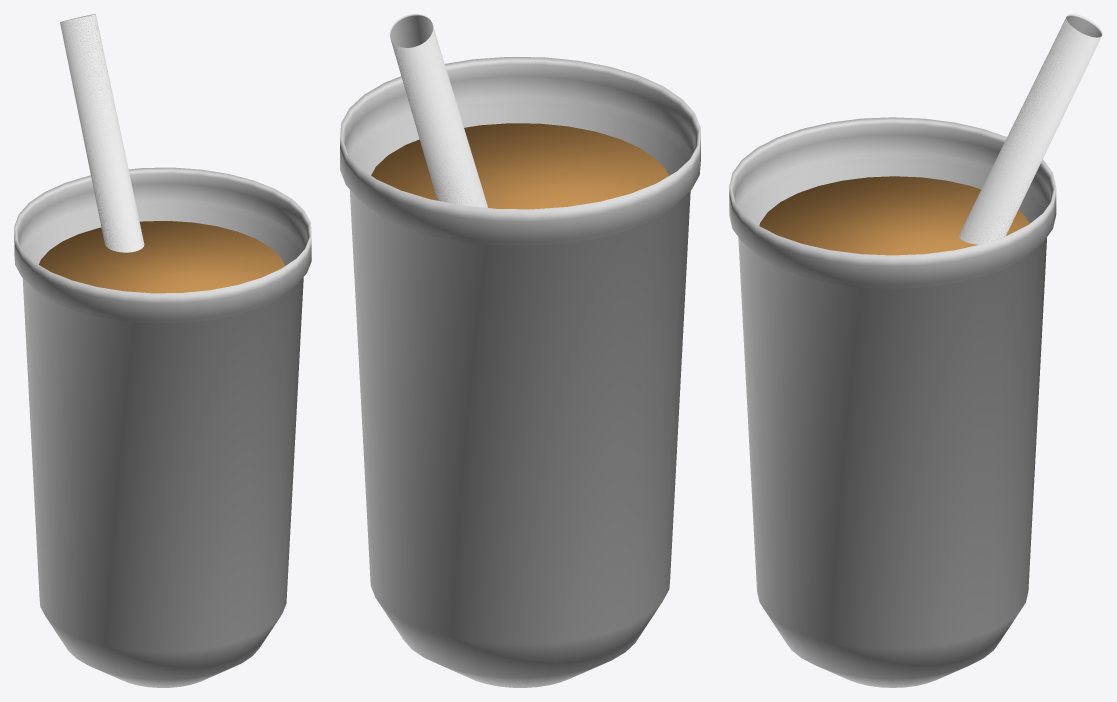
Rendered from Bubble_Glass 1.fbx.
3 renders of one model, left to right at view 1: azimuth 30°, elevation 25°; view 2: azimuth 150°, elevation 25°; view 3: azimuth 270°, elevation 25°, orthographic. The views are drawn at different scales.
Visible parts, largest first — view 1: Glass, Tea, Tube; view 2: Glass, Tea, Tube; view 3: Glass, Tea, Tube.
Boxes of the visible parts, x1,y1,x2,y2 form: Glass: (14,167,311,687); Tea: (39,221,284,293); Tube: (60,14,144,252); Glass: (340,57,700,687); Tea: (371,123,668,209); Tube: (389,14,487,207); Glass: (729,117,1056,687); Tea: (759,176,1029,255); Tube: (959,14,1102,244).
Bounding box in the file's own units: 71.93 × 157 × 82.18.
